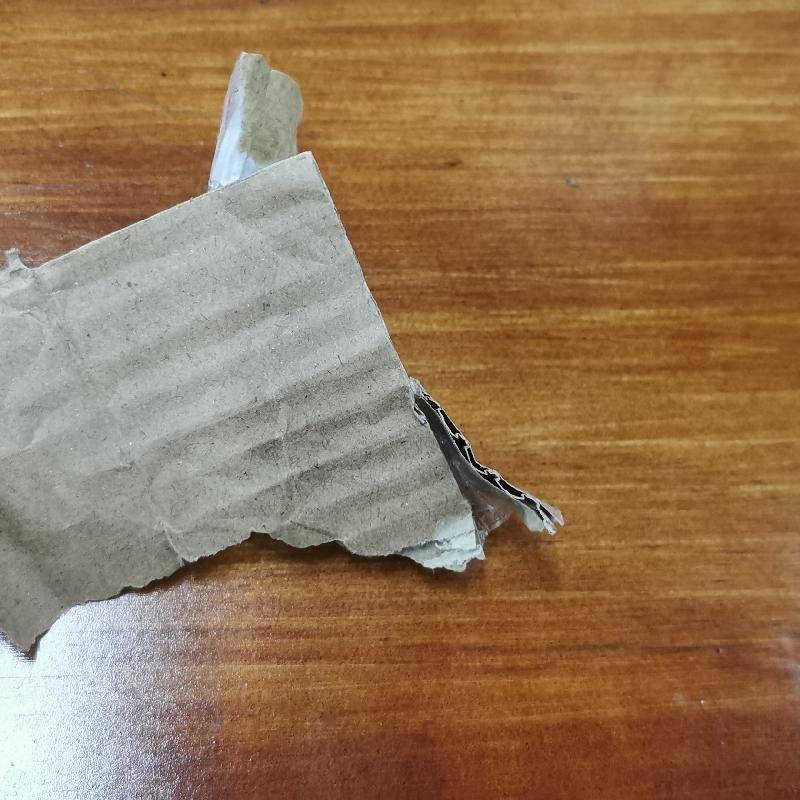boxes: (8, 60, 578, 690)
